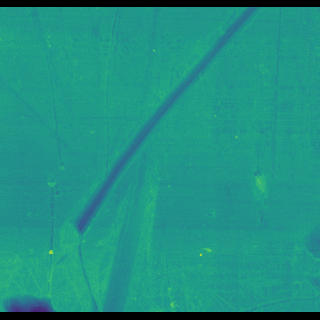Loch: (51, 14, 284, 258), (0, 234, 320, 304), (89, 145, 165, 305), (24, 11, 67, 170), (244, 161, 279, 205)
